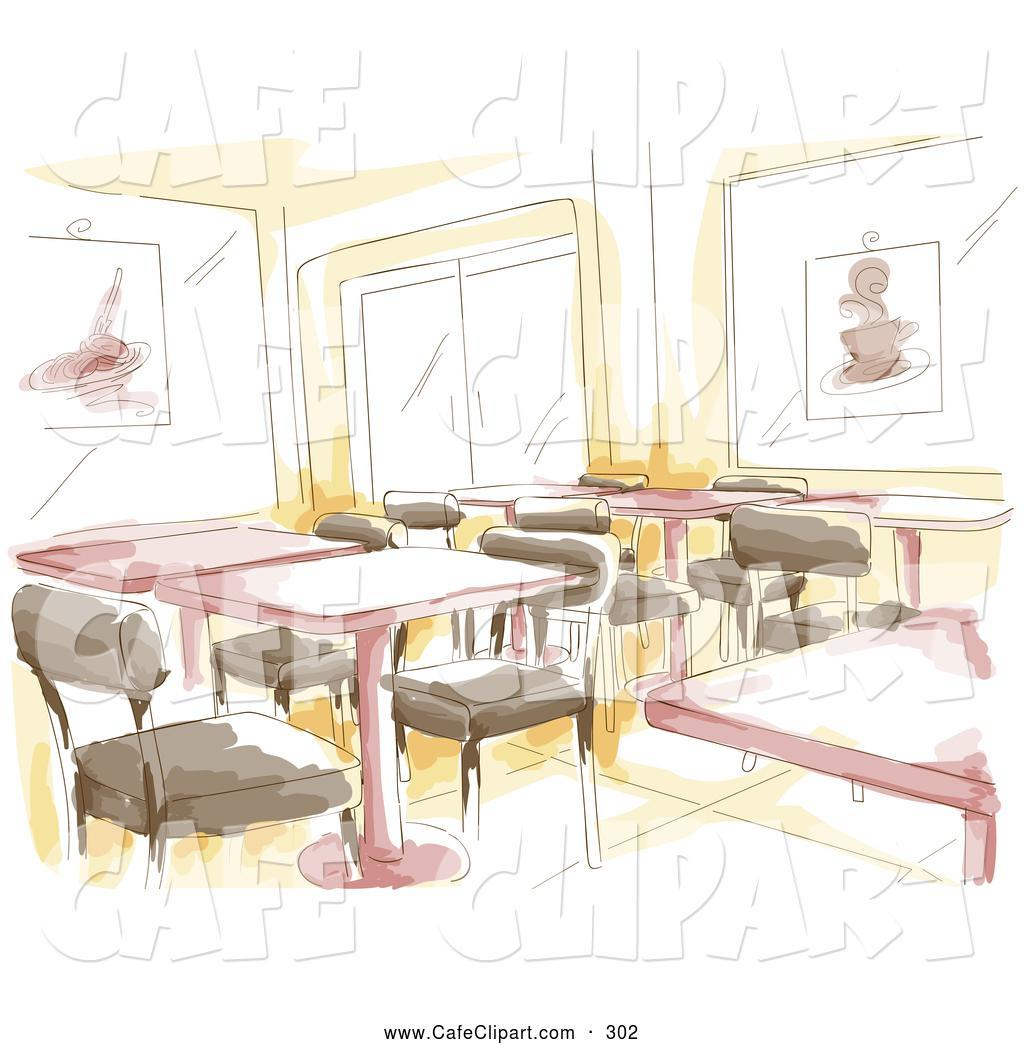chair: (8, 584, 376, 895), (390, 533, 627, 875), (727, 504, 941, 811), (212, 516, 415, 790), (508, 496, 700, 726)
